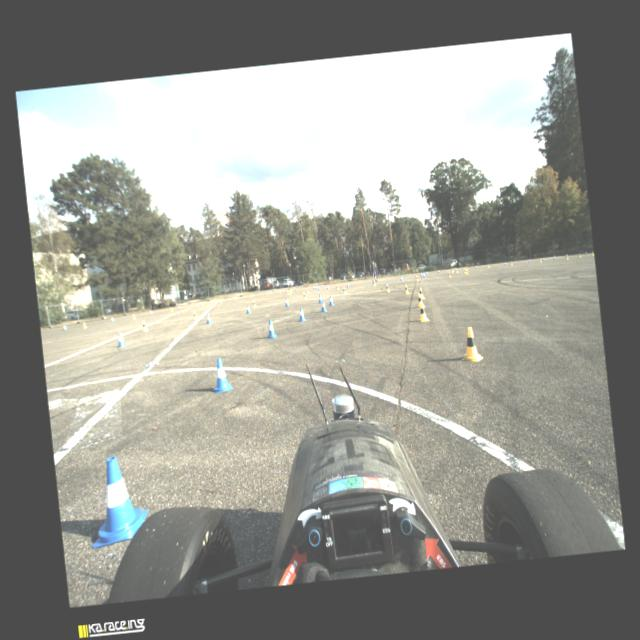blue_cone: (83, 453, 152, 548), (210, 356, 232, 392), (266, 318, 277, 338), (116, 332, 126, 346), (298, 306, 306, 322), (204, 312, 212, 323), (319, 299, 326, 311), (328, 294, 334, 304), (317, 293, 322, 302), (284, 298, 289, 306), (246, 304, 250, 313), (346, 282, 349, 287), (420, 274, 423, 278), (111, 317, 114, 321), (64, 324, 66, 330), (326, 284, 328, 289), (232, 296, 235, 299), (318, 286, 320, 290), (400, 276, 402, 280), (423, 273, 425, 277), (312, 285, 314, 289), (178, 305, 180, 309), (199, 302, 201, 306), (218, 298, 220, 302), (150, 310, 152, 314), (307, 285, 309, 289), (528, 259, 530, 262), (314, 286, 316, 289), (542, 258, 544, 260), (504, 262, 506, 264), (316, 285, 317, 289), (585, 252, 586, 254), (553, 256, 554, 258), (438, 270, 439, 272), (295, 288, 296, 290), (252, 294, 253, 296), (282, 289, 283, 291), (476, 265, 476, 268), (426, 271, 426, 274), (270, 290, 270, 293)
yellow_cone: (459, 326, 483, 362), (417, 303, 429, 321), (416, 292, 424, 306), (140, 319, 148, 332), (418, 286, 424, 298), (192, 310, 197, 319), (385, 283, 390, 292), (404, 284, 408, 294), (342, 287, 347, 294), (252, 300, 256, 308), (302, 292, 306, 300), (447, 272, 451, 278), (464, 268, 468, 274), (82, 322, 86, 328), (415, 274, 418, 281), (306, 288, 309, 293), (372, 280, 375, 285), (132, 314, 135, 318), (487, 262, 489, 268), (591, 250, 593, 256), (336, 284, 338, 289), (290, 288, 292, 293), (450, 268, 452, 273), (463, 268, 465, 273), (540, 257, 542, 262), (170, 308, 172, 312), (200, 302, 202, 306), (220, 298, 222, 302), (288, 290, 290, 294), (266, 290, 268, 294), (279, 289, 281, 293), (455, 268, 457, 272), (452, 268, 454, 272), (466, 266, 468, 270), (510, 260, 512, 264), (566, 255, 568, 259), (578, 253, 580, 257), (235, 296, 236, 300), (250, 293, 251, 297), (287, 290, 288, 294)
